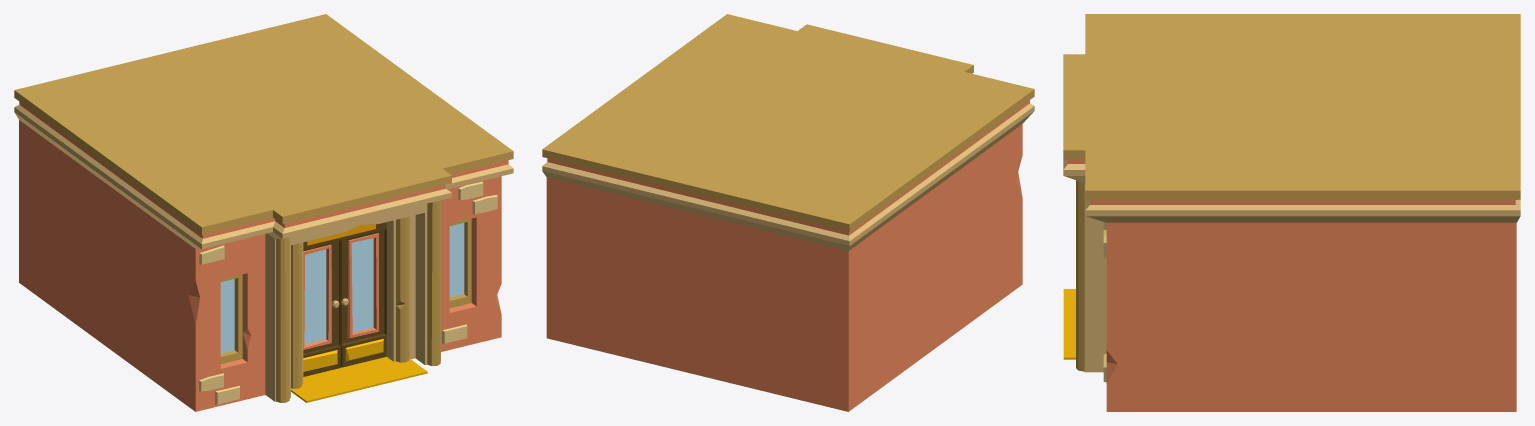
The model's file is SM_Bld_Apartment_Door_01_edit.fbx.
3 renders of one model, left to right at view 1: azimuth 30°, elevation 25°; view 2: azimuth 150°, elevation 25°; view 3: azimuth 270°, elevation 25°, orthographic. The views are drawn at different scales.
Parts seen in each view (by area): view 1: SM_Bld_Apartment_Door_01; view 2: SM_Bld_Apartment_Door_01; view 3: SM_Bld_Apartment_Door_01.
Part boxes in pixels (x1,y1,x2,y2): SM_Bld_Apartment_Door_01: (14,14,513,411); SM_Bld_Apartment_Door_01: (542,14,1034,411); SM_Bld_Apartment_Door_01: (1063,14,1520,411).
Size of the model in its own units: 5.1 by 3 by 5.58.
